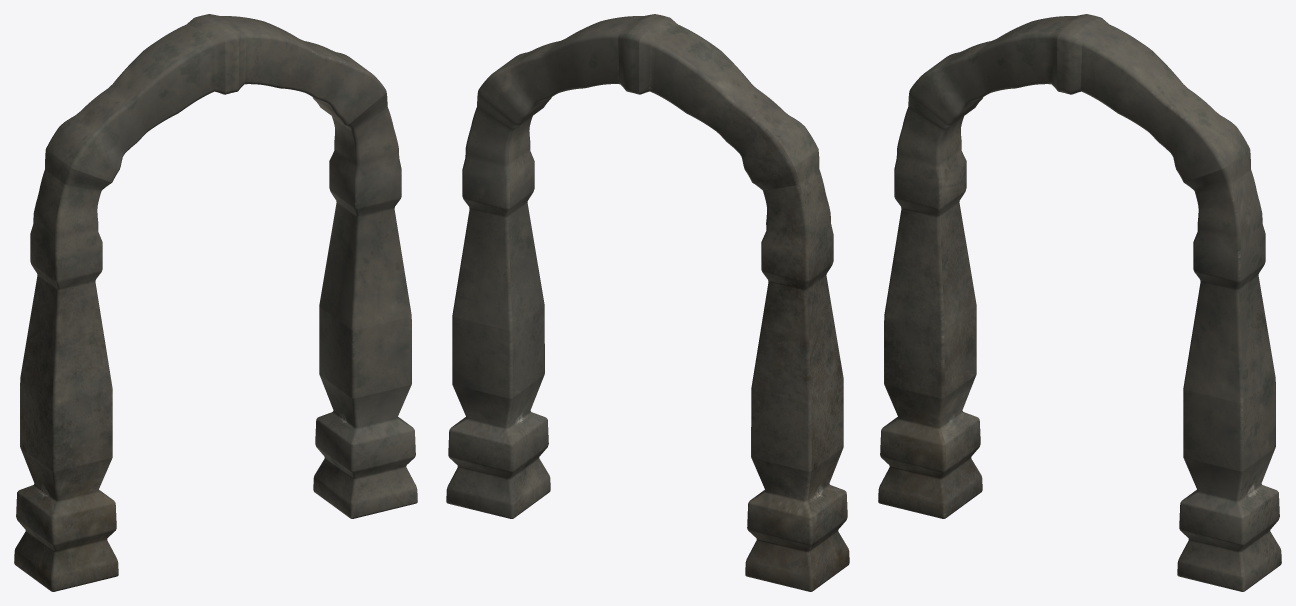
Rendered from archway.glb.
The picture shows the model from 3 angles, left to right: view 1: azimuth 30°, elevation 25°; view 2: azimuth 150°, elevation 25°; view 3: azimuth 330°, elevation 25°; orthographic projection.
Parts seen in each view (by area): view 1: Sweep; view 2: Sweep; view 3: Sweep.
Part boxes in pixels (x1,y1,x2,y2): Sweep: [14, 14, 417, 591]; Sweep: [446, 14, 849, 591]; Sweep: [878, 14, 1281, 591].
Size of the model in its own units: 11.33 by 15.13 by 2.09.
Materials: 1 (1 with a texture image).
